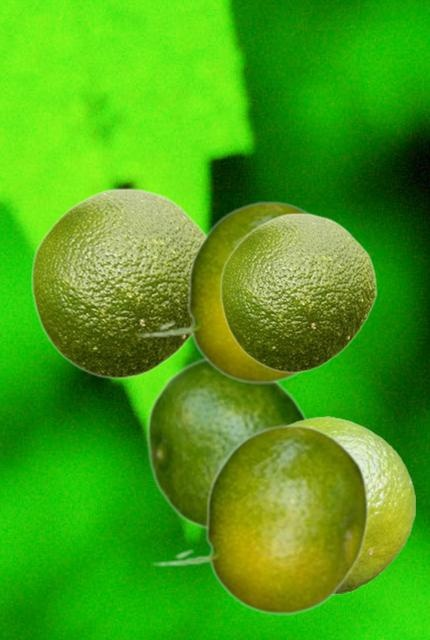calamansi: (151, 423, 368, 614), (30, 187, 205, 379), (135, 200, 312, 383), (145, 357, 307, 531), (219, 212, 376, 373), (285, 416, 414, 593)
